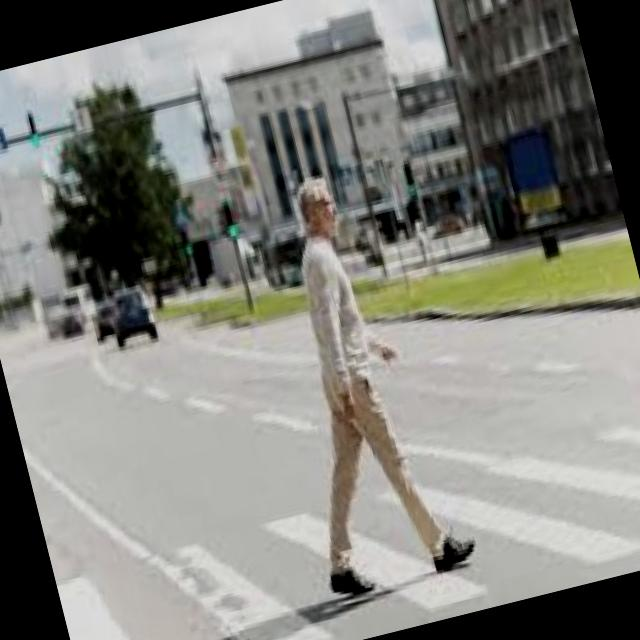Person: (232, 160, 477, 599)
